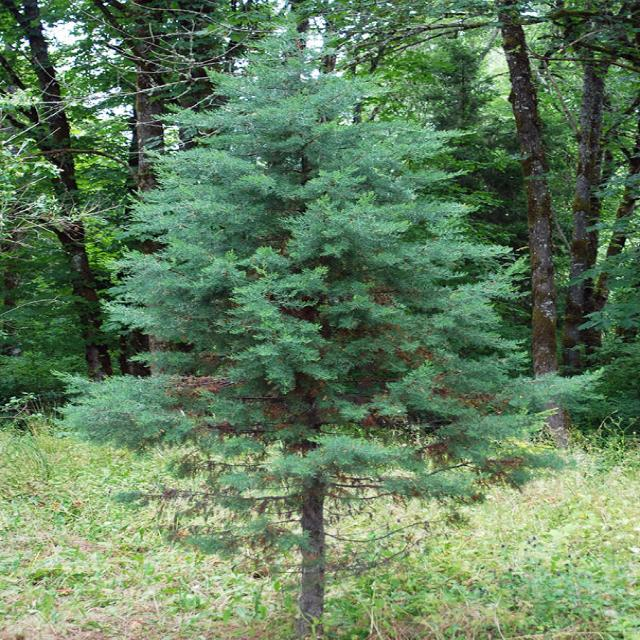Hesperocyparis bakeri: (44, 11, 604, 634)
